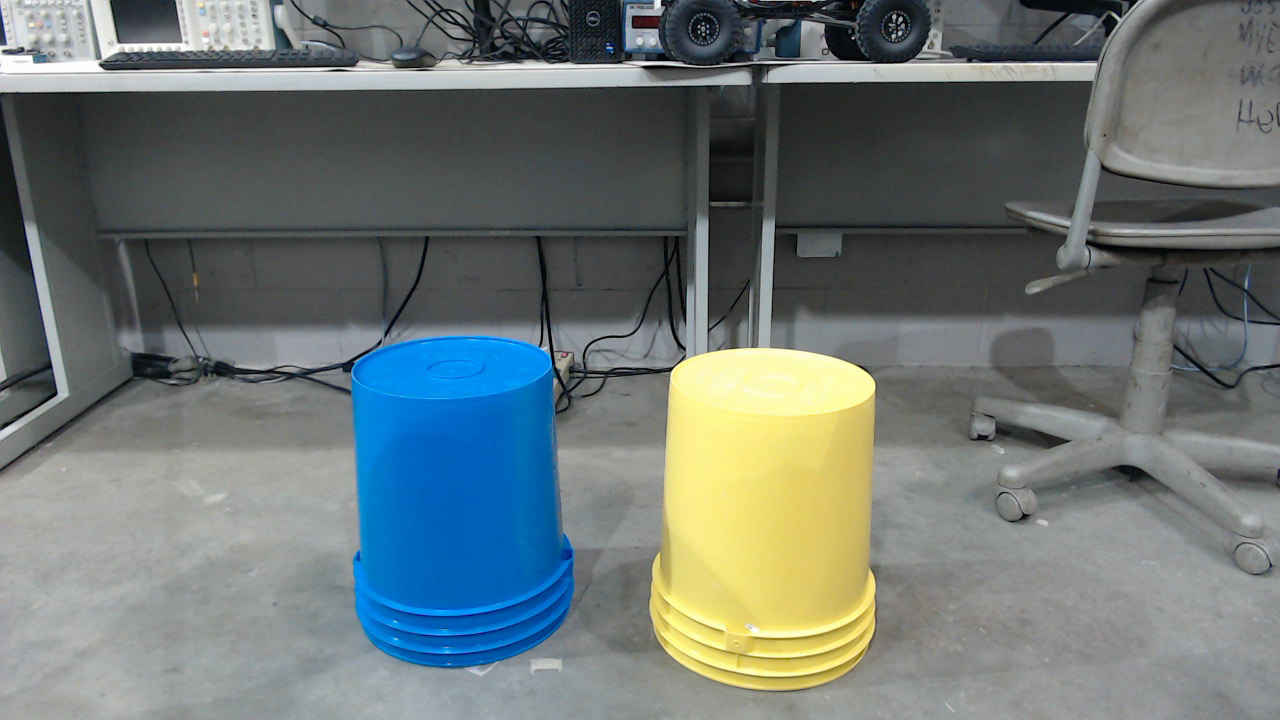blue_bucket: (355, 338, 583, 675)
yellow_bucket: (651, 350, 884, 699)
